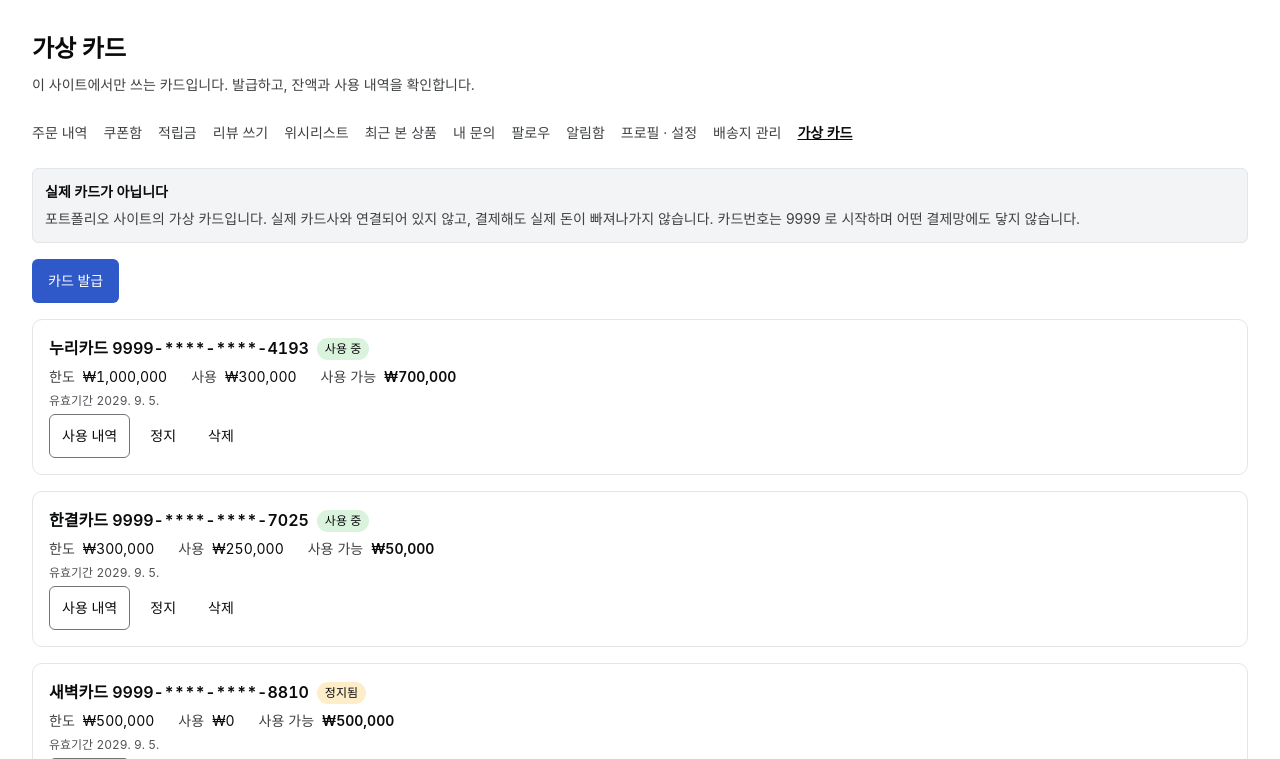
Test: 사용 내역 (F3) › opens one card ledger at a time and links each payment to its order
expect the heading "가상 카드" is shown: met, box [32,34,126,63]
Click the button "사용 내역" below "₩1,000,000".
click(90, 436)  # box [49,414,130,458]
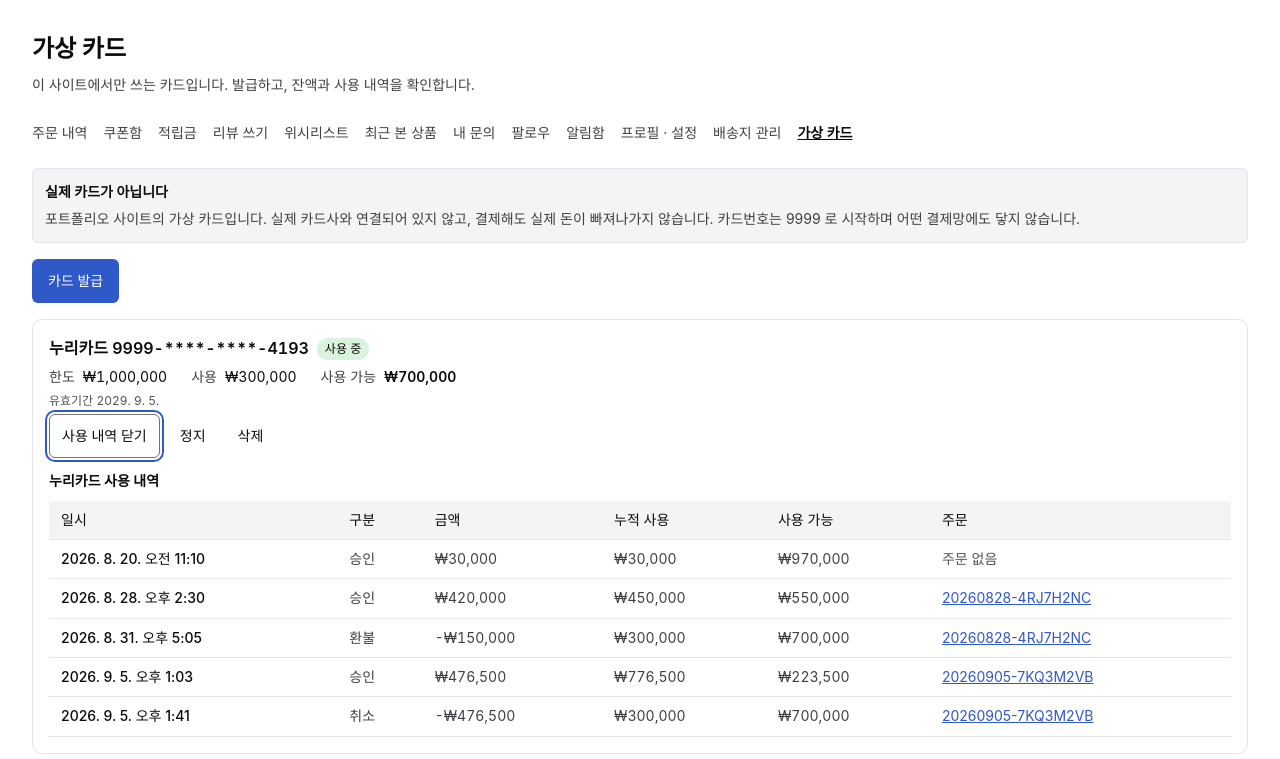
expect the text "승인" next to "2026. 8. 20. 오전 11:10" is shown: met, box [349,550,375,567]
